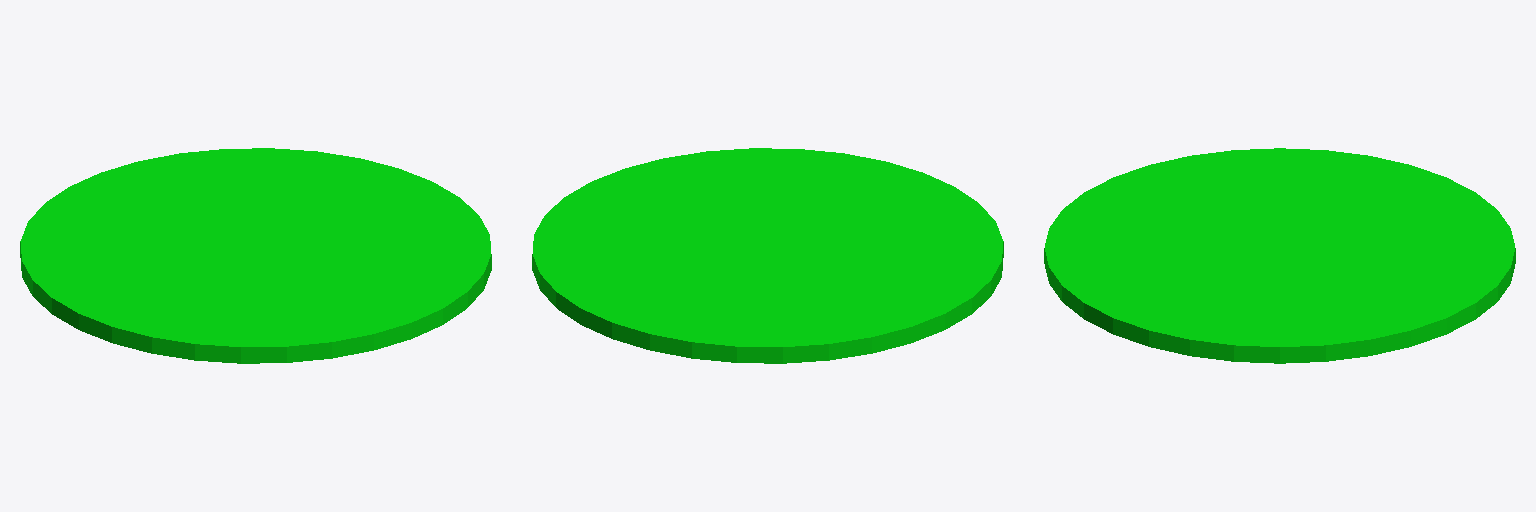
URDF robot description (goal_zone):
<?xml version="1.0"?>
<robot name="goal_zone">

    <link name="goal">
        <visual>
            <geometry>
                <cylinder length="0.1" radius="1.3"/>
            </geometry>
            <material name="green">
                <color rgba="0.05 0.9 0.1 1"/>
            </material>
            <origin xyz="0 0 0.05"/>
        </visual>
        <inertial>
            <mass value="1"/>
            <inertia ixx="0" ixy="0" ixz="0" iyy="0" iyz="0" izz="0"/>
        </inertial>
    </link>

</robot>

--- What the picture shows (computed from the rendered views, not written in the file) ---
3 views of the same robot in one strip: view 1: azimuth 30°, elevation 25°; view 2: azimuth 150°, elevation 25°; view 3: azimuth 270°, elevation 25° (orthographic).
Robot: goal_zone — 1 links, 0 joints (none); root link goal; default pose: every joint at zero.
Visible links, largest first — view 1: goal; view 2: goal; view 3: goal.
Boxes of the visible links, <box> form: goal: <box>20,148,491,363</box>; goal: <box>532,148,1003,363</box>; goal: <box>1044,148,1515,363</box>.
Bounding box of the posed robot: 2.6 × 2.6 × 0.1 m (x, y, z).
Geometry: primitives only (box / cylinder / sphere), no mesh files.